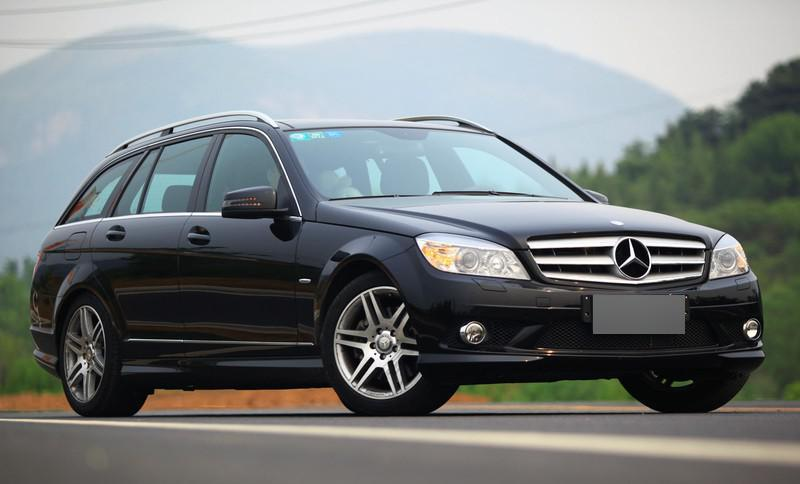Wagon: (28, 108, 768, 417)
